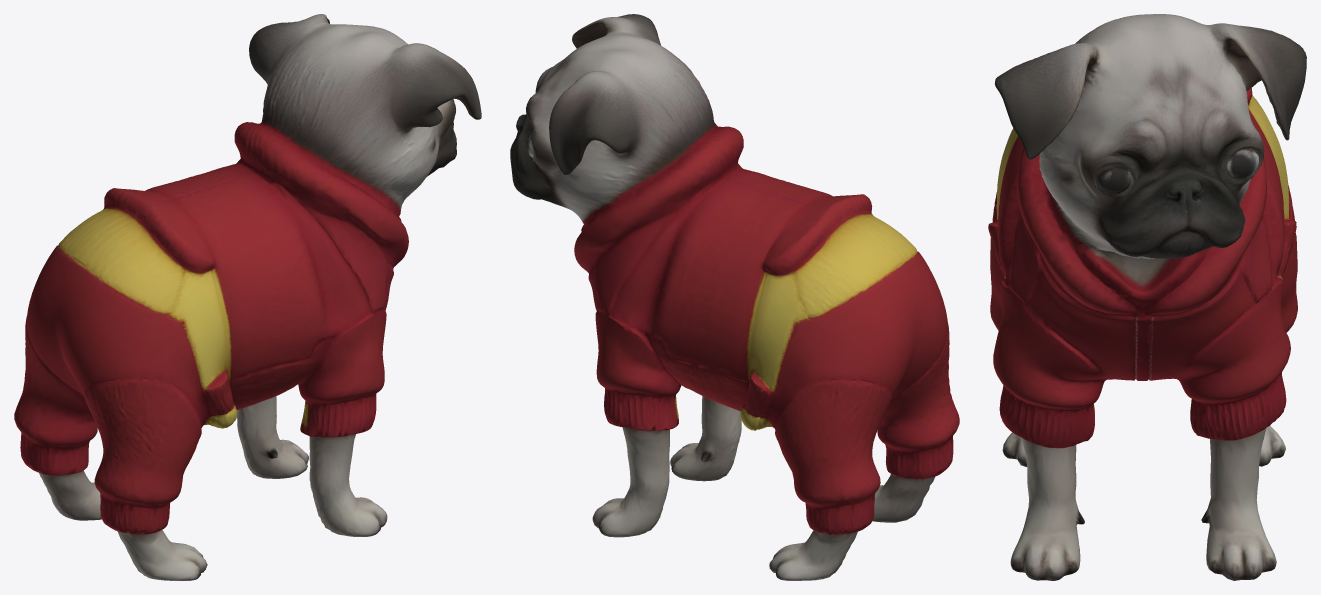
File: ClydeBaby.glb
3 views of the same model, side by side, from view 1: azimuth 30°, elevation 25°; view 2: azimuth 150°, elevation 25°; view 3: azimuth 270°, elevation 25° (orthographic). The views are drawn at different scales.
Visible parts, largest first — view 1: tripo_node_66afd178-ded0-4708-a84e-300f02811ba0; view 2: tripo_node_66afd178-ded0-4708-a84e-300f02811ba0; view 3: tripo_node_66afd178-ded0-4708-a84e-300f02811ba0.
Boxes of the visible parts, x1=… form: tripo_node_66afd178-ded0-4708-a84e-300f02811ba0: x1=14, y1=14, x2=481, y2=580; tripo_node_66afd178-ded0-4708-a84e-300f02811ba0: x1=510, y1=14, x2=959, y2=580; tripo_node_66afd178-ded0-4708-a84e-300f02811ba0: x1=988, y1=14, x2=1306, y2=580.
Size of the model in its own units: 0.914 by 1 by 0.508.
1 material, 1 textured.
